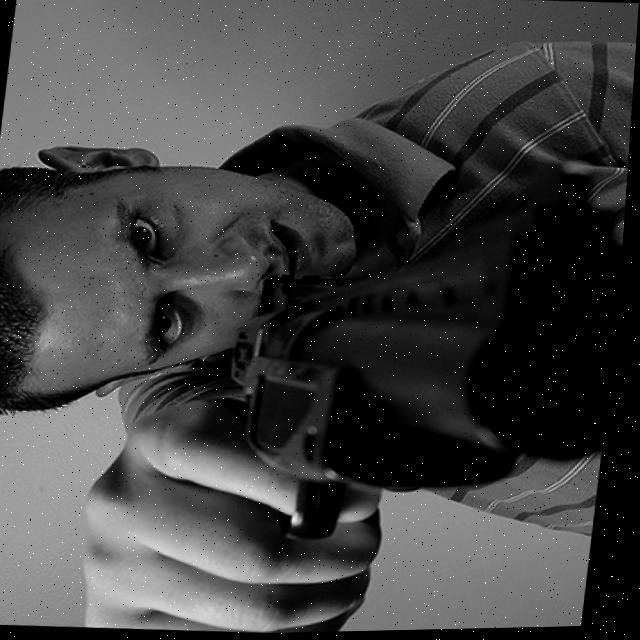pistol: (212, 145, 632, 562)
